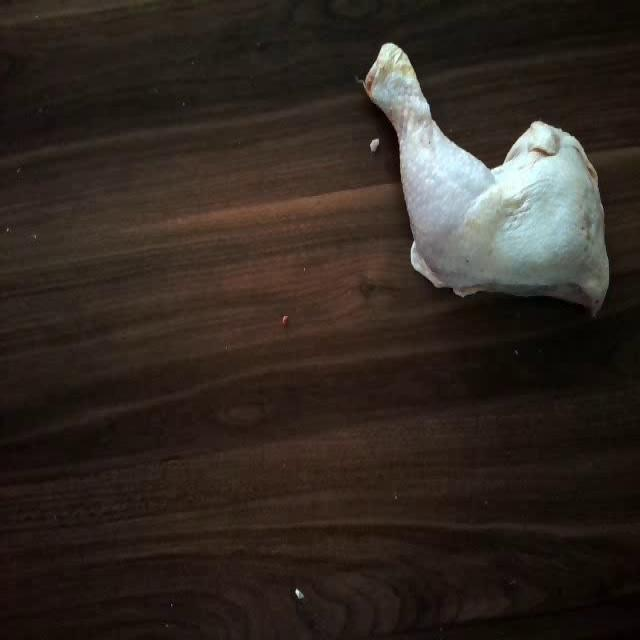quater: (362, 39, 616, 332)
